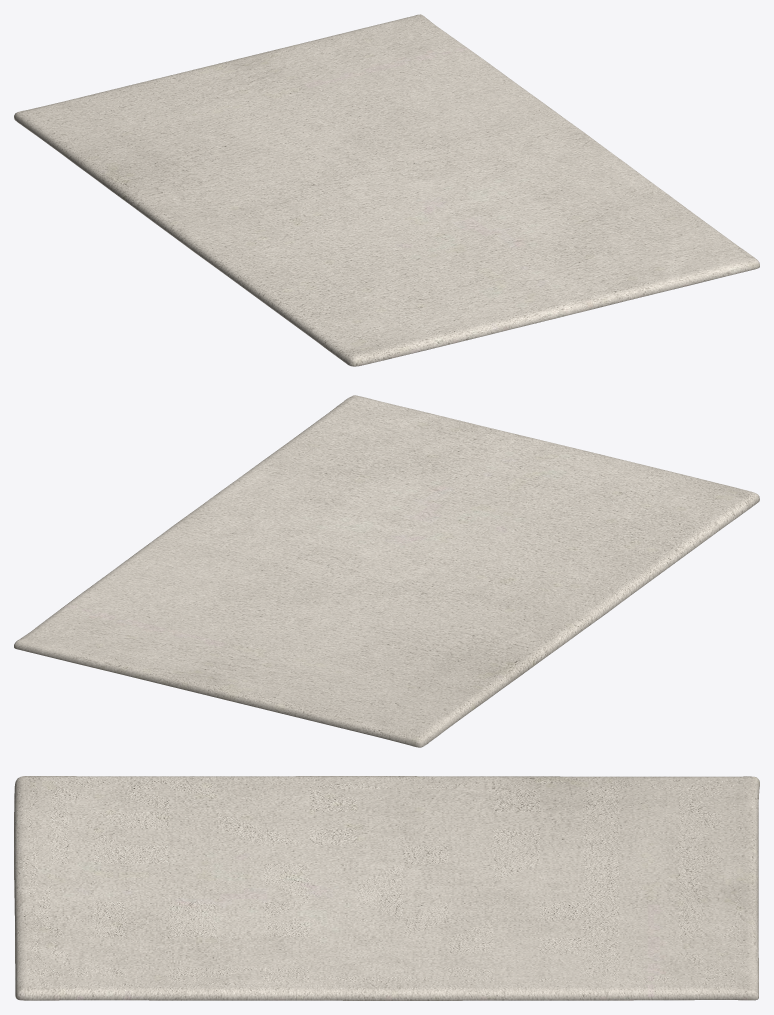
Rendered from LB-BR-RUG-04.glb.
3 views of the same model, one above another, from view 1: azimuth 30°, elevation 25°; view 2: azimuth 150°, elevation 25°; view 3: azimuth 270°, elevation 25° (orthographic). The views are drawn at different scales.
Parts seen in each view (by area): view 1: 001; view 2: 001; view 3: 001.
Boxes of the visible parts, <box> form: 001: <box>14,14,759,366</box>; 001: <box>14,395,759,747</box>; 001: <box>14,776,759,1000</box>.
Size of the model in its own units: 1.6 by 0.0303 by 2.3.
3 materials, 3 textured.
